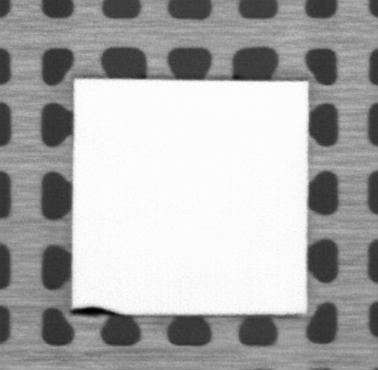DIE_BROKEN: (69, 304, 122, 316)
